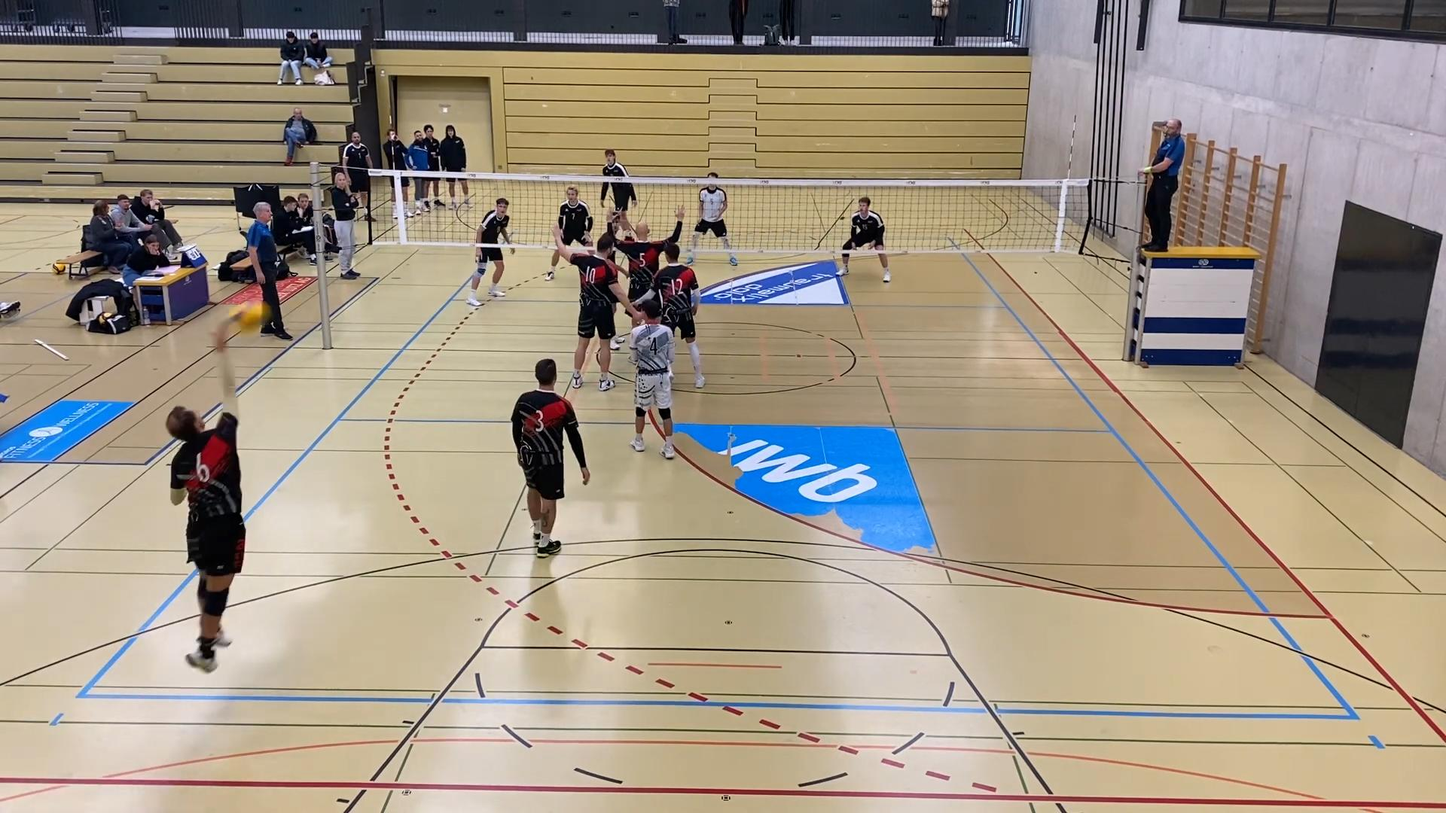battuta: (154, 318, 248, 672)
